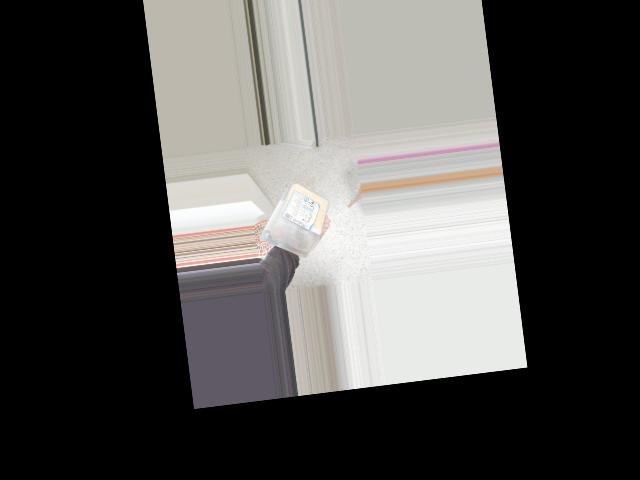cheese: (282, 179, 326, 248)
